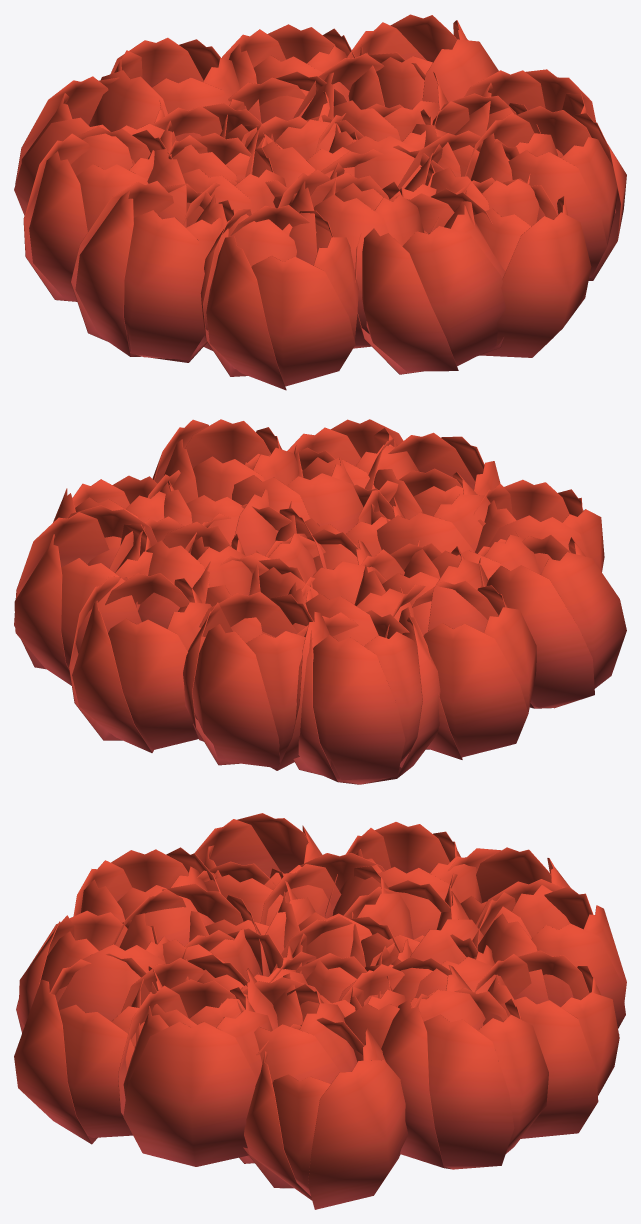
3 views of the same model, one above another, from view 1: azimuth 30°, elevation 25°; view 2: azimuth 150°, elevation 25°; view 3: azimuth 270°, elevation 25° (orthographic). The views are drawn at different scales.
Parts seen in each view (by area): view 1: Flower_017_Base_Material_0_002; view 2: Flower_017_Base_Material_0_002; view 3: Flower_017_Base_Material_0_002.
Boxes of the visible parts, <box> form: Flower_017_Base_Material_0_002: <box>14,14,626,390</box>; Flower_017_Base_Material_0_002: <box>14,419,626,784</box>; Flower_017_Base_Material_0_002: <box>14,813,626,1209</box>.
Bounding box in the file's own units: 0.1563 × 0.0499 × 0.1511.
1 material, 1 textured.
